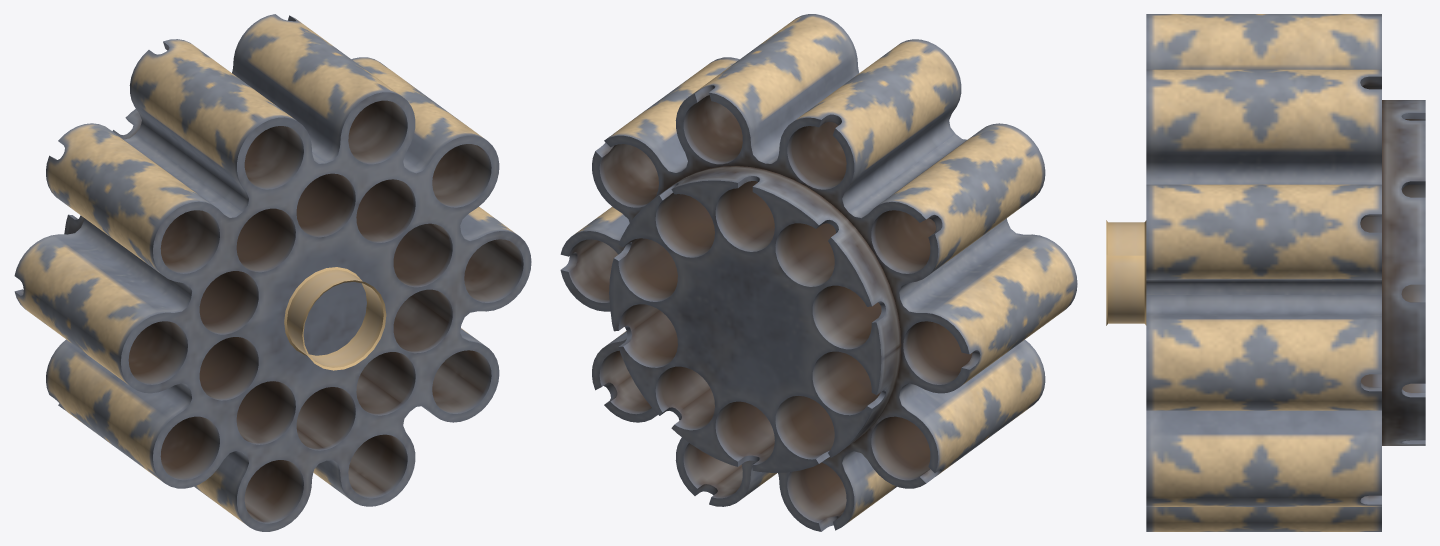
The model's file is SM_Chevallier_01b.fbx.
The picture shows the model from 3 angles, left to right: view 1: azimuth 30°, elevation 25°; view 2: azimuth 150°, elevation 25°; view 3: azimuth 270°, elevation 25°; orthographic projection. The views are drawn at different scales.
Parts seen in each view (by area): view 1: SM_Chevallier_01b_LOD0; view 2: SM_Chevallier_01b_LOD0; view 3: SM_Chevallier_01b_LOD0.
Part boxes in pixels (x1=…): SM_Chevallier_01b_LOD0: x1=14, y1=14, x2=531, y2=531; SM_Chevallier_01b_LOD0: x1=560, y1=14, x2=1077, y2=531; SM_Chevallier_01b_LOD0: x1=1106, y1=14, x2=1425, y2=531.
Bounding box in the file's own units: 5.66 × 3.46 × 5.43.
